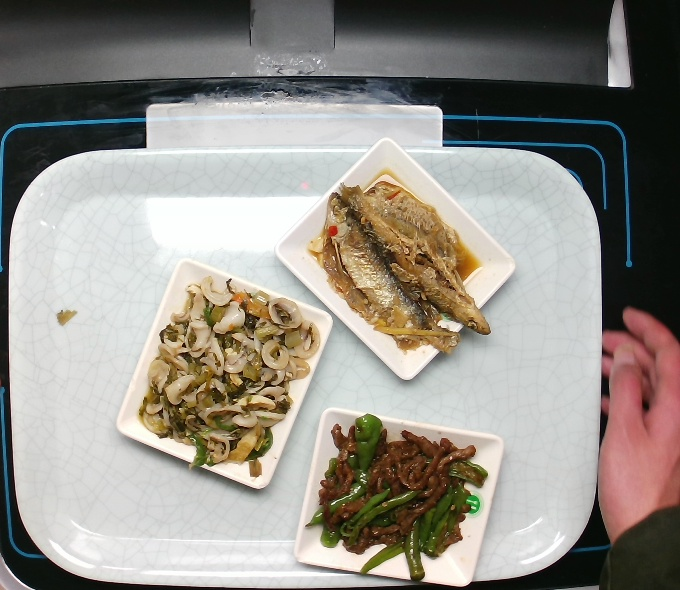wcq-QingJiaoNiuRou: (300, 413, 503, 590)
wcq-XiaoXiYu: (313, 164, 490, 367)
wcq-XueCaiYouYu: (122, 272, 332, 484)
